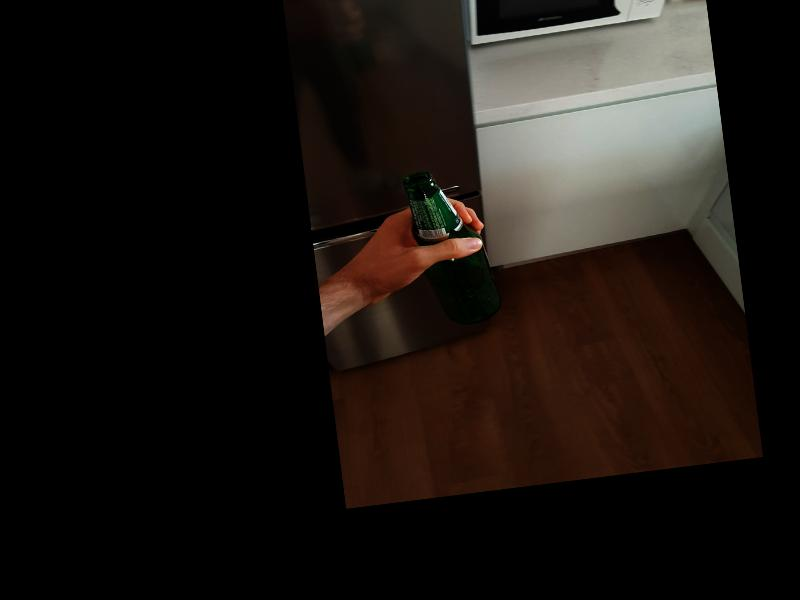Beer: (402, 164, 502, 331)
